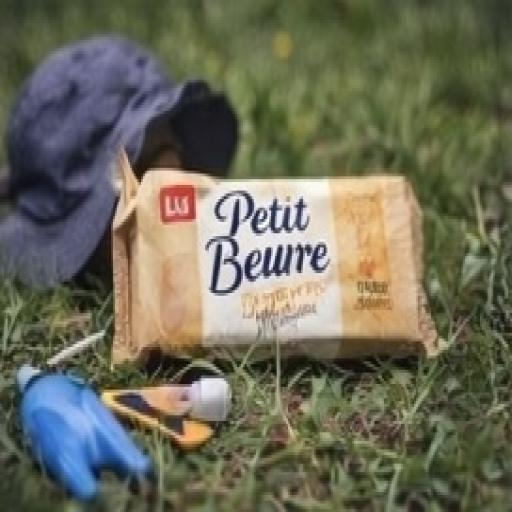petit_beurre: (74, 101, 452, 416)
